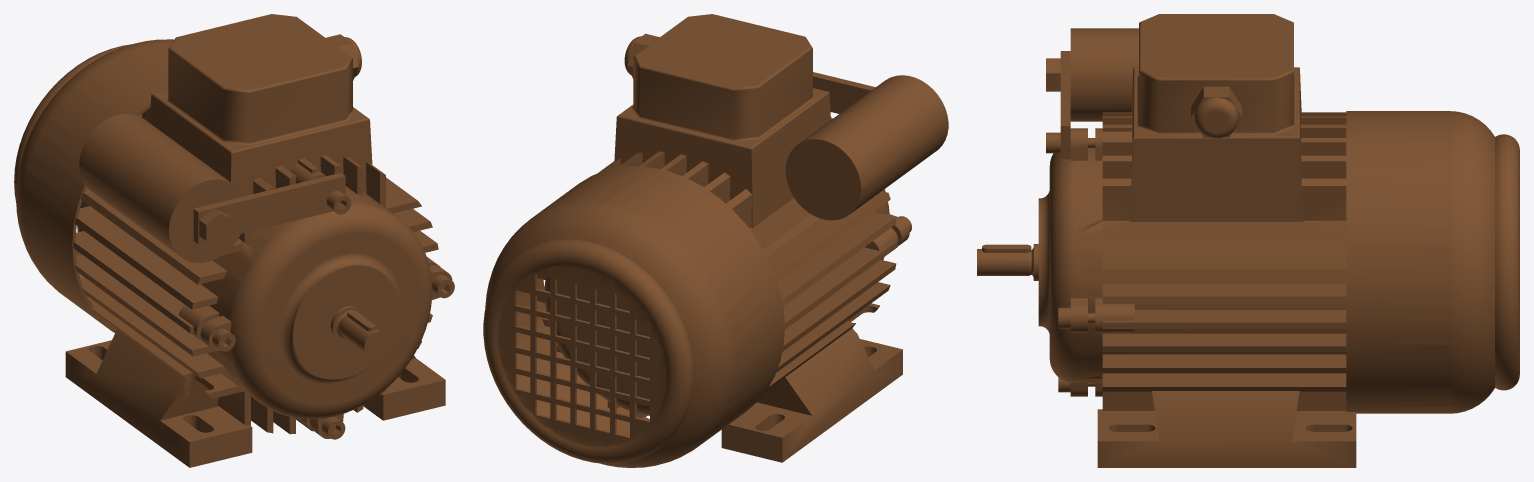
The model's file is Motor.glb.
The picture shows the model from 3 angles, left to right: view 1: azimuth 30°, elevation 25°; view 2: azimuth 150°, elevation 25°; view 3: azimuth 270°, elevation 25°; orthographic projection. The views are drawn at different scales.
Parts seen in each view (by area): view 1: Object_2; view 2: Object_2; view 3: Object_2.
Part boxes in pixels (x1,y1,x2,y2): Object_2: [14, 14, 454, 467]; Object_2: [483, 14, 948, 467]; Object_2: [977, 14, 1519, 467].
Size of the model in its own units: 142 by 160 by 220.
1 material, 1 textured.
